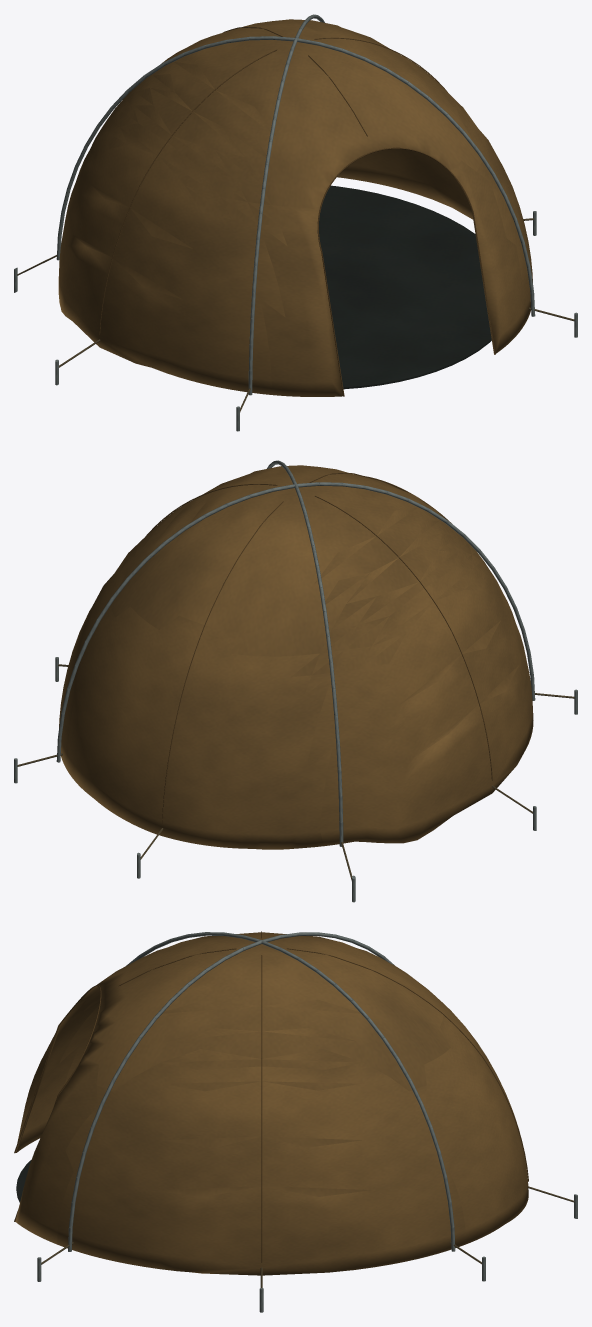
Rendered from level_camp_tent_fitted_pitch_06_siteart.glb.
3 views of the same model, one above another, from view 1: azimuth 30°, elevation 25°; view 2: azimuth 150°, elevation 25°; view 3: azimuth 270°, elevation 25° (orthographic).
Parts seen in each view (by area): view 1: level_camp_tent_fitted_pitch_06_siteart; view 2: level_camp_tent_fitted_pitch_06_siteart; view 3: level_camp_tent_fitted_pitch_06_siteart.
Boxes of the visible parts, <box> form: level_camp_tent_fitted_pitch_06_siteart: <box>14,14,577,431</box>; level_camp_tent_fitted_pitch_06_siteart: <box>14,460,577,902</box>; level_camp_tent_fitted_pitch_06_siteart: <box>14,931,577,1312</box>.
Size of the model in its own units: 3.44 by 2.02 by 3.49.
Materials: 5 (5 with a texture image).
